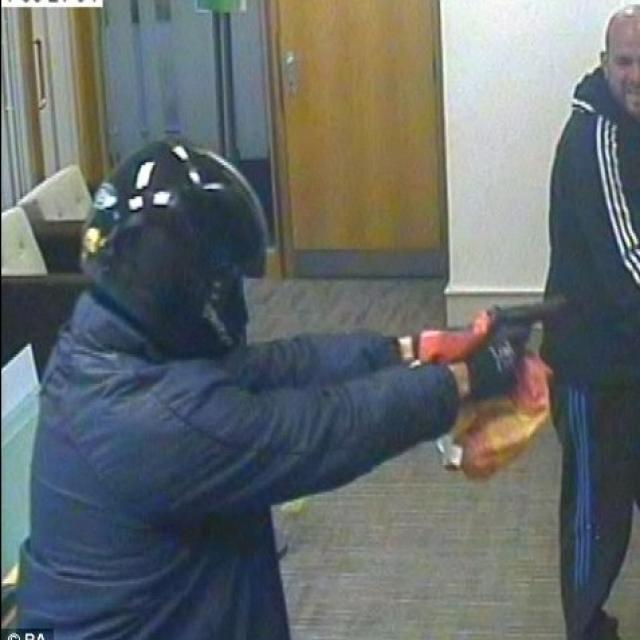gun: (482, 291, 572, 347)
